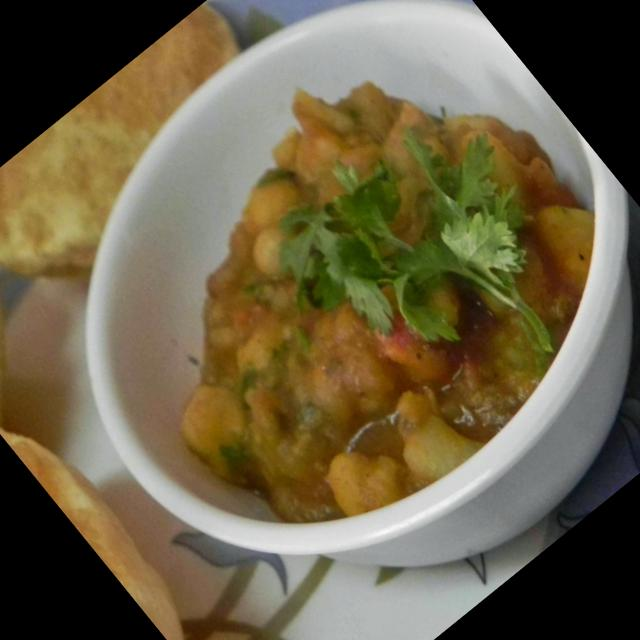Bhatura: (0, 0, 295, 323), (0, 401, 222, 640), (0, 218, 66, 431)
Chole: (56, 0, 640, 591)
